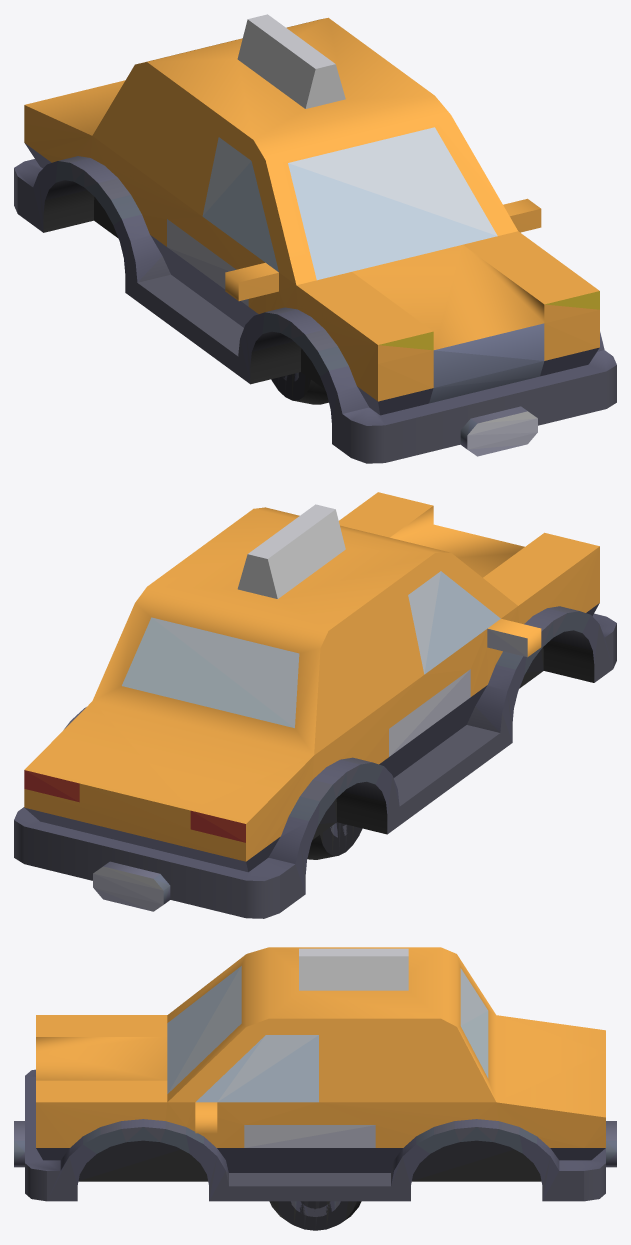
File: taxi.glb
3 renders of one model, top to bottom at view 1: azimuth 30°, elevation 25°; view 2: azimuth 150°, elevation 25°; view 3: azimuth 270°, elevation 25°, orthographic. The views are drawn at different scales.
Visible parts, largest first — view 1: trim, body_paint, wheel_right; view 2: body_paint, trim, wheel_right; view 3: body_paint, trim, wheel_left, wheel_right.
Boxes of the visible parts, x1=… form: trim: x1=14, y1=14, x2=616, y2=463; body_paint: x1=24, y1=17, x2=599, y2=401; wheel_right: x1=271, y1=372, x2=327, y2=404; body_paint: x1=24, y1=492, x2=599, y2=861; trim: x1=14, y1=504, x2=616, y2=918; wheel_right: x1=307, y1=822, x2=362, y2=859; body_paint: x1=36, y1=947, x2=605, y2=1147; trim: x1=14, y1=948, x2=616, y2=1201; wheel_left: x1=269, y1=1201, x2=361, y2=1230; wheel_right: x1=291, y1=1201, x2=340, y2=1216.
Size of the model in its own units: 2.1 by 2.25 by 4.5.
